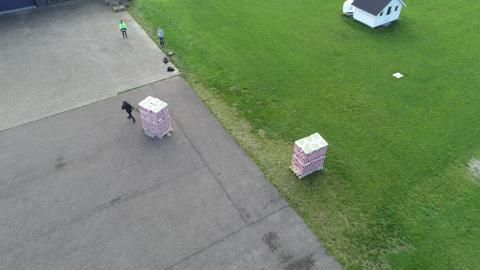RockwoolPallet: (137, 94, 171, 141)
